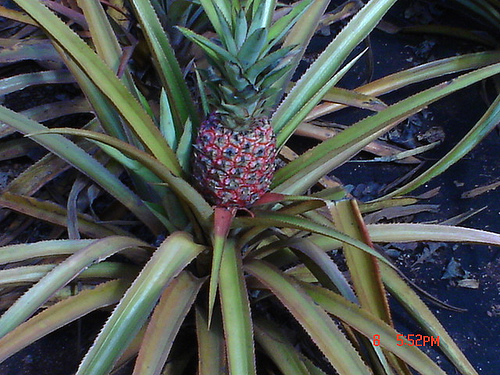pineapple: (193, 1, 280, 210)
